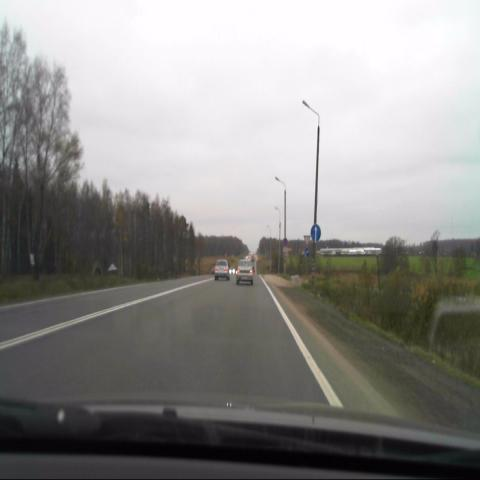2_4: (304, 235, 312, 246)
4_1_1: (311, 224, 321, 243)
4_1_2: (302, 247, 312, 260)
